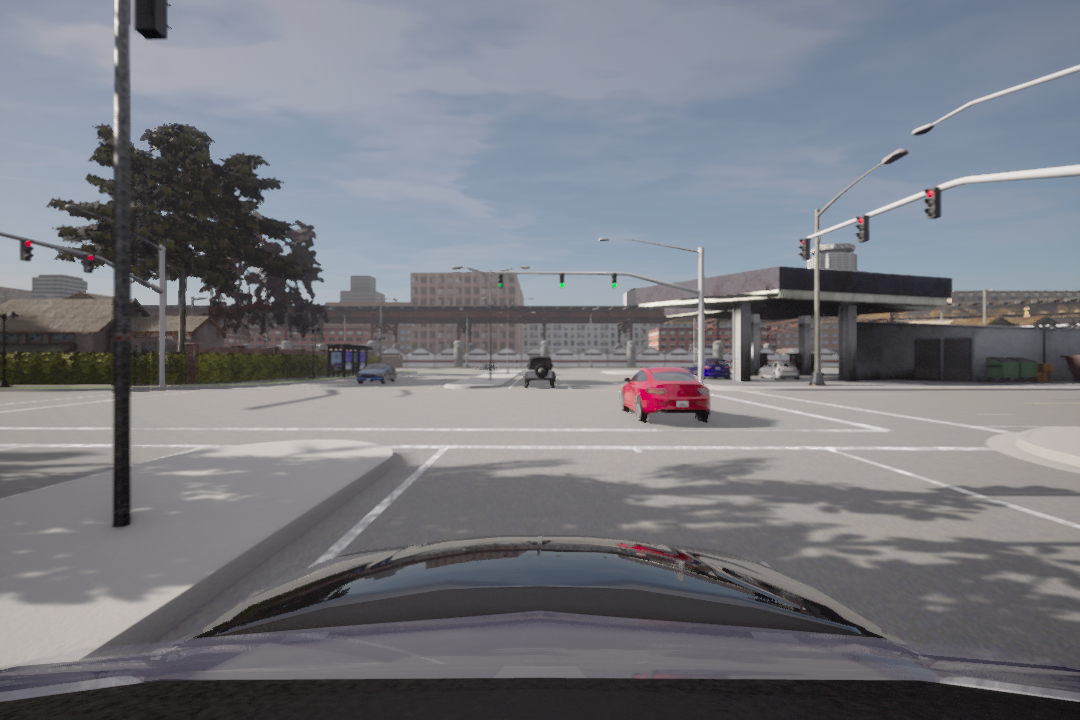TrafficLight: (16, 235, 40, 267), (924, 183, 941, 226), (851, 211, 871, 241), (793, 237, 812, 261), (81, 251, 97, 276), (609, 271, 620, 292), (556, 269, 566, 286), (497, 272, 504, 289)
